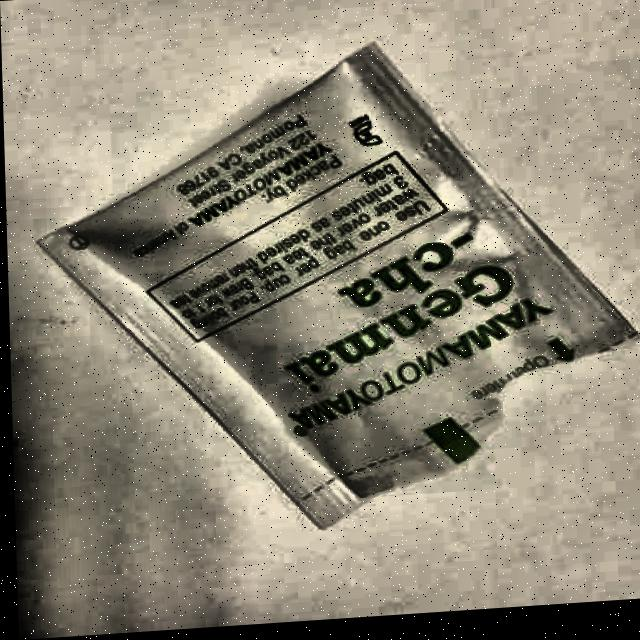paper: (30, 23, 640, 547)
